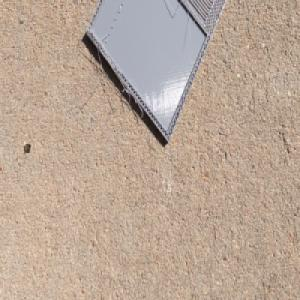PlasticPart: (84, 0, 229, 145)
